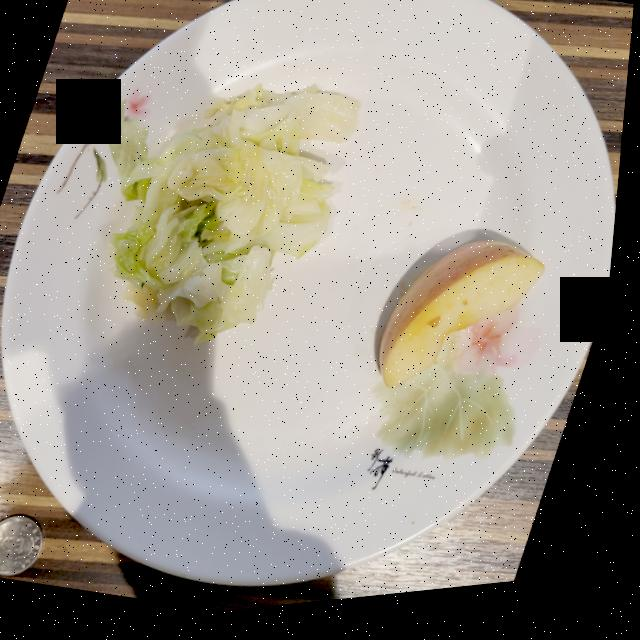apple -sliced-: (386, 251, 550, 396)
cabbage: (104, 91, 362, 347)
coin: (0, 515, 54, 577)
